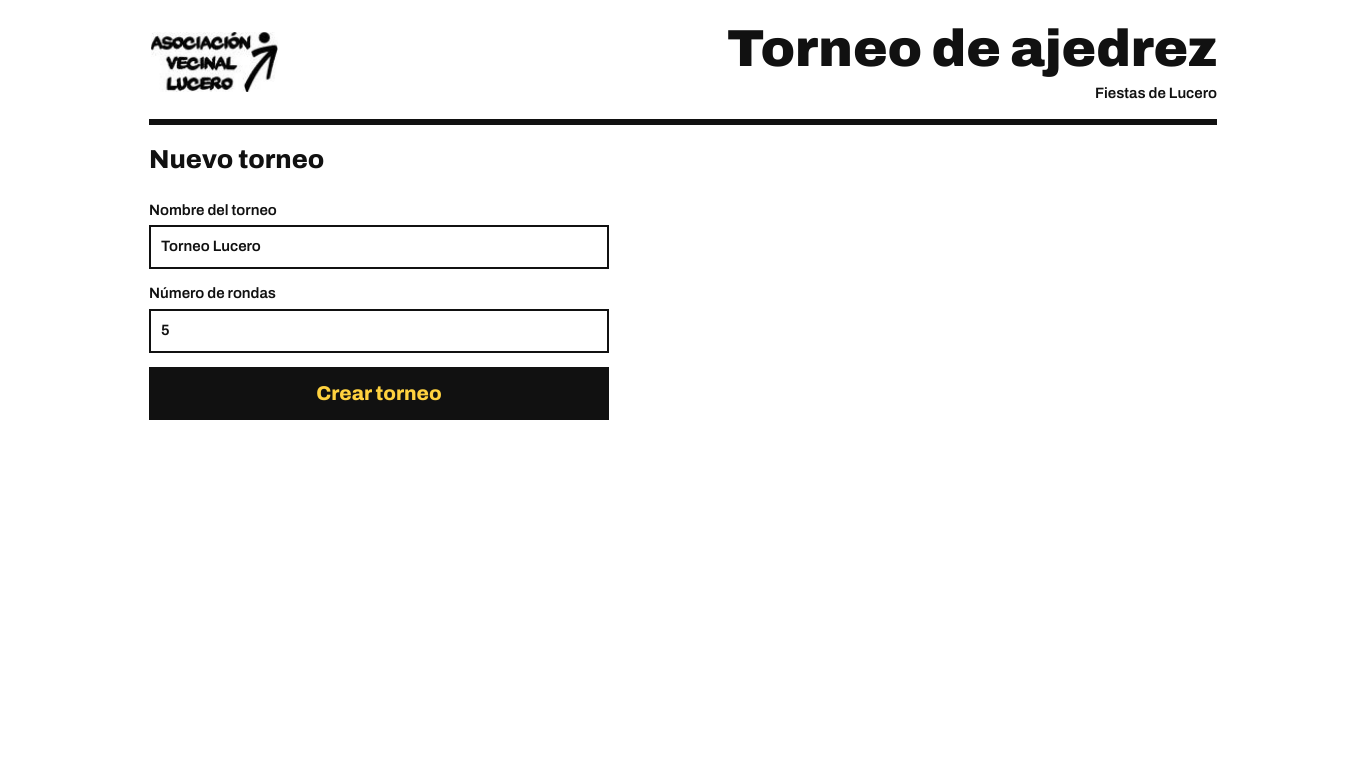
Test: inscripción › empezar con un jugador muestra un aviso
Replace the text in the field labelled "Nombre del torneo" with "Torneo de otoño" at coordinates (379, 247), box [149, 225, 609, 269]
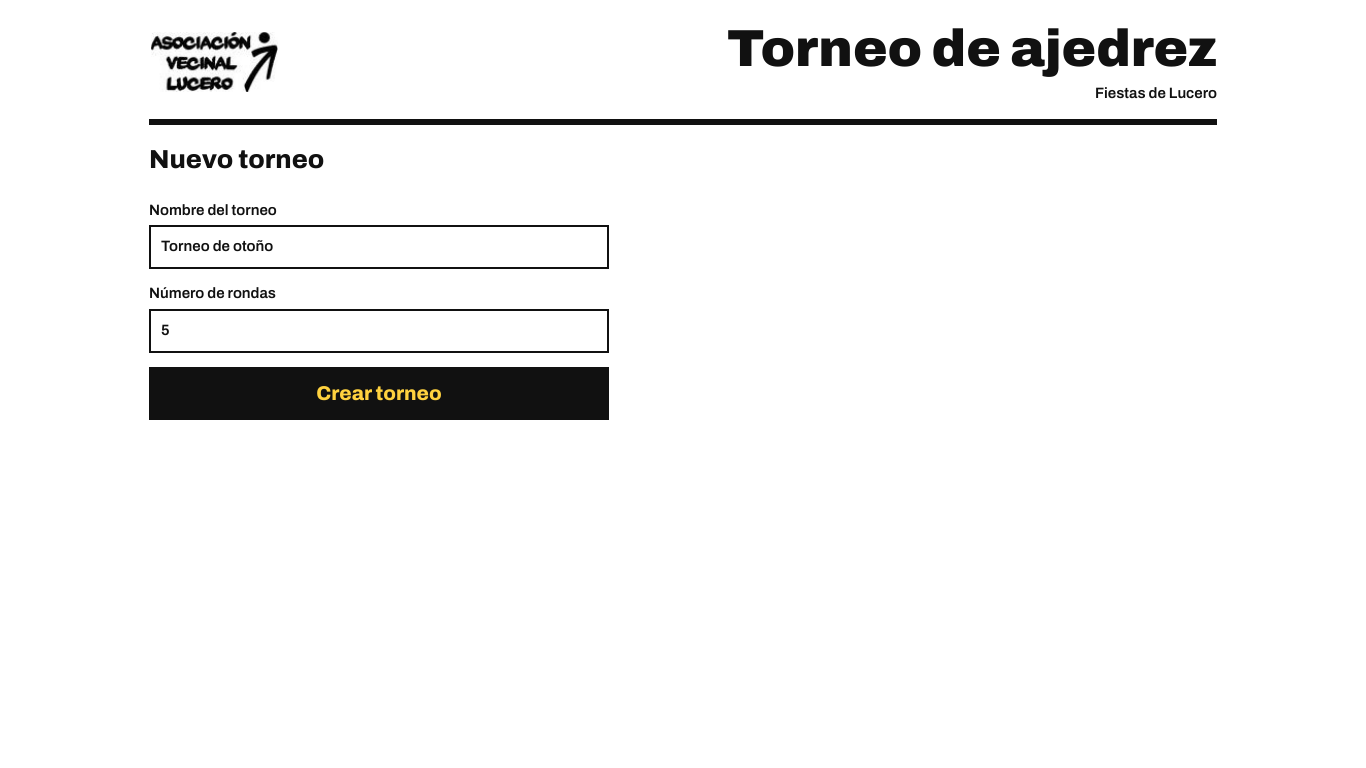
Replace the text in the number field labelled "Número de rondas" with "3" at coordinates (379, 331), box [149, 309, 609, 353]
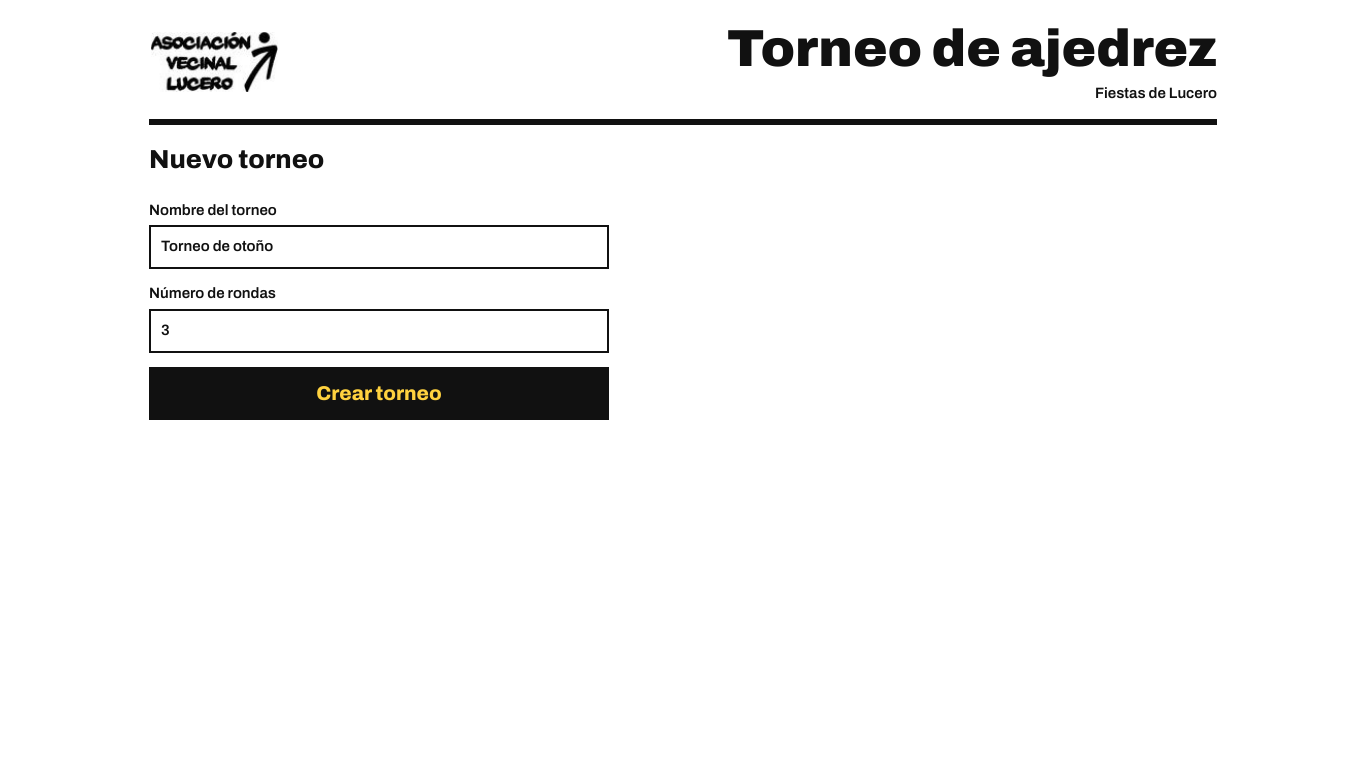
Click the button "Crear torneo".
click(379, 394)  # box [149, 367, 609, 420]
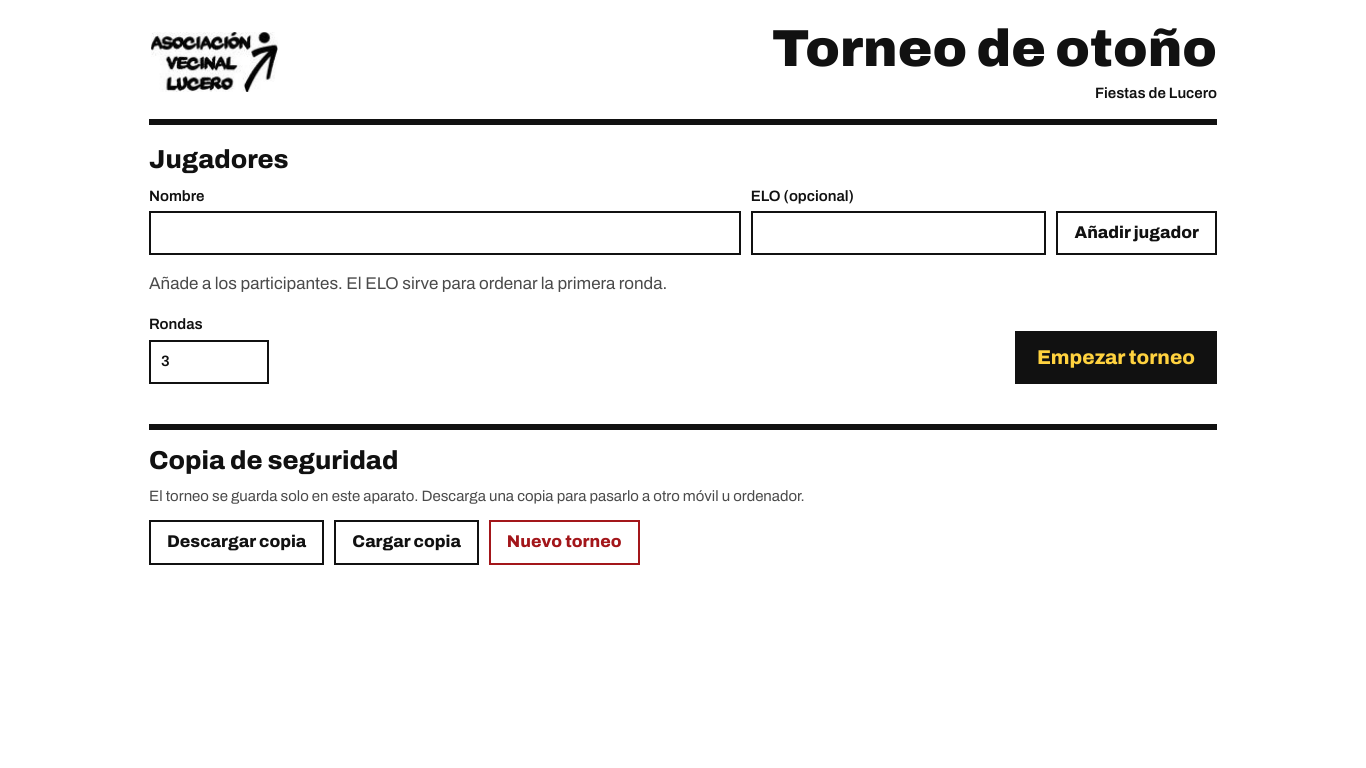
Type "Ana" into the field labelled "Nombre".
click(445, 233); type("Ana")  # box [149, 211, 741, 255]
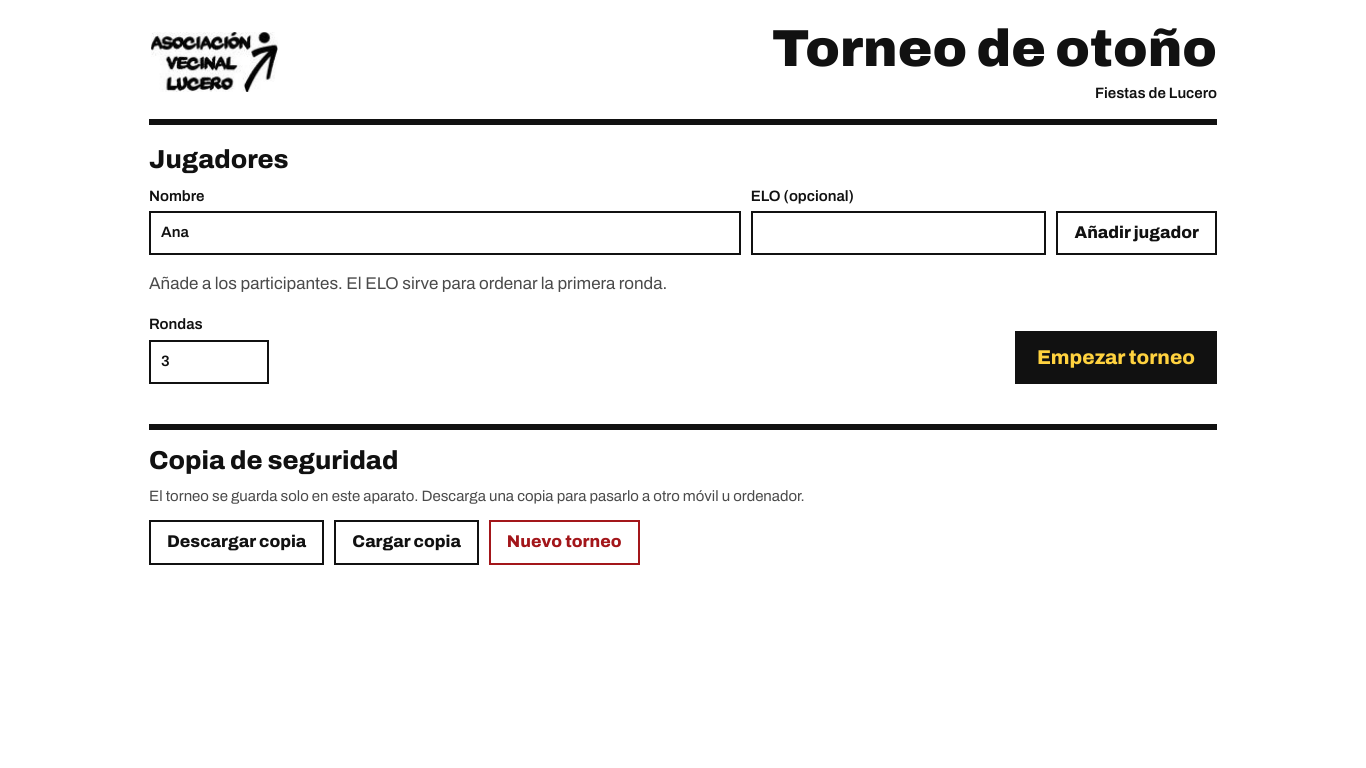
Click the button "Añadir jugador".
click(1137, 233)  # box [1056, 211, 1217, 255]
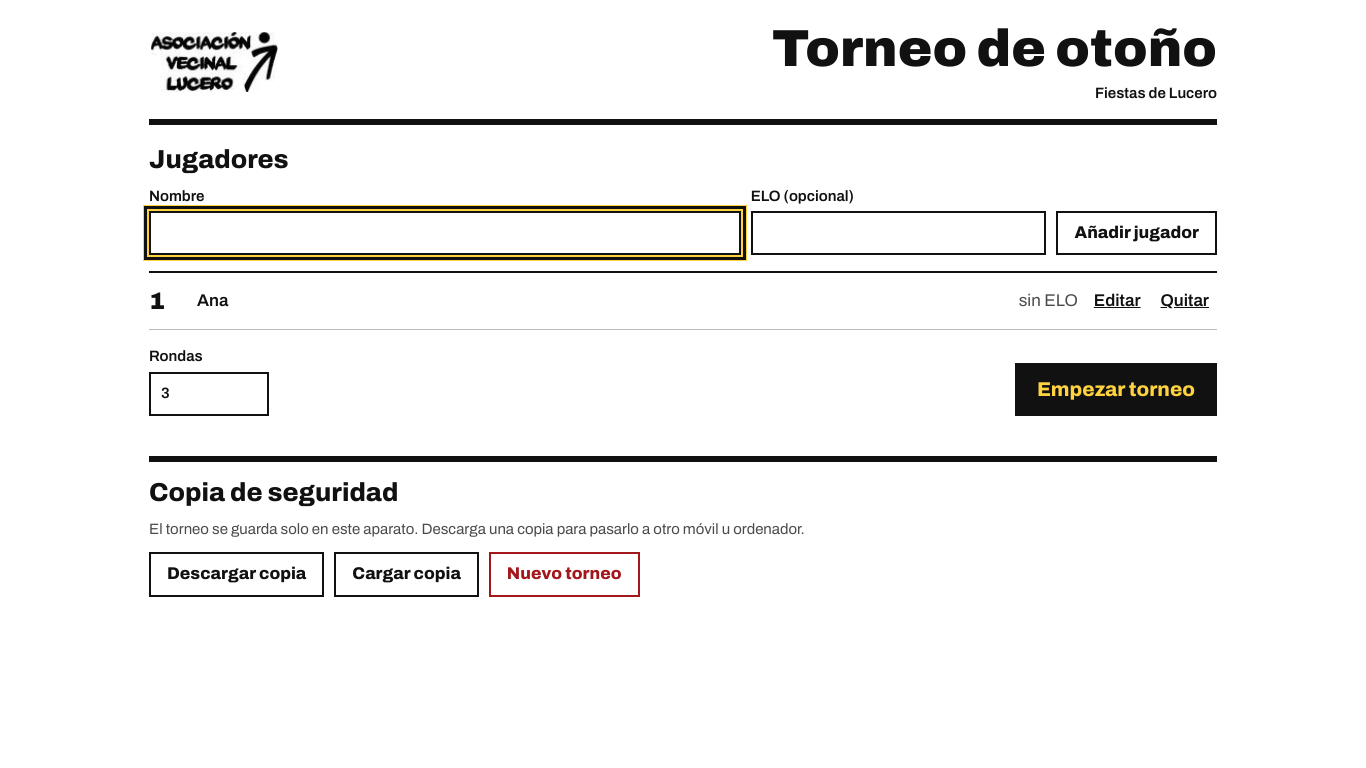
Click the button "Empezar torneo".
click(1116, 390)  # box [1015, 363, 1217, 416]
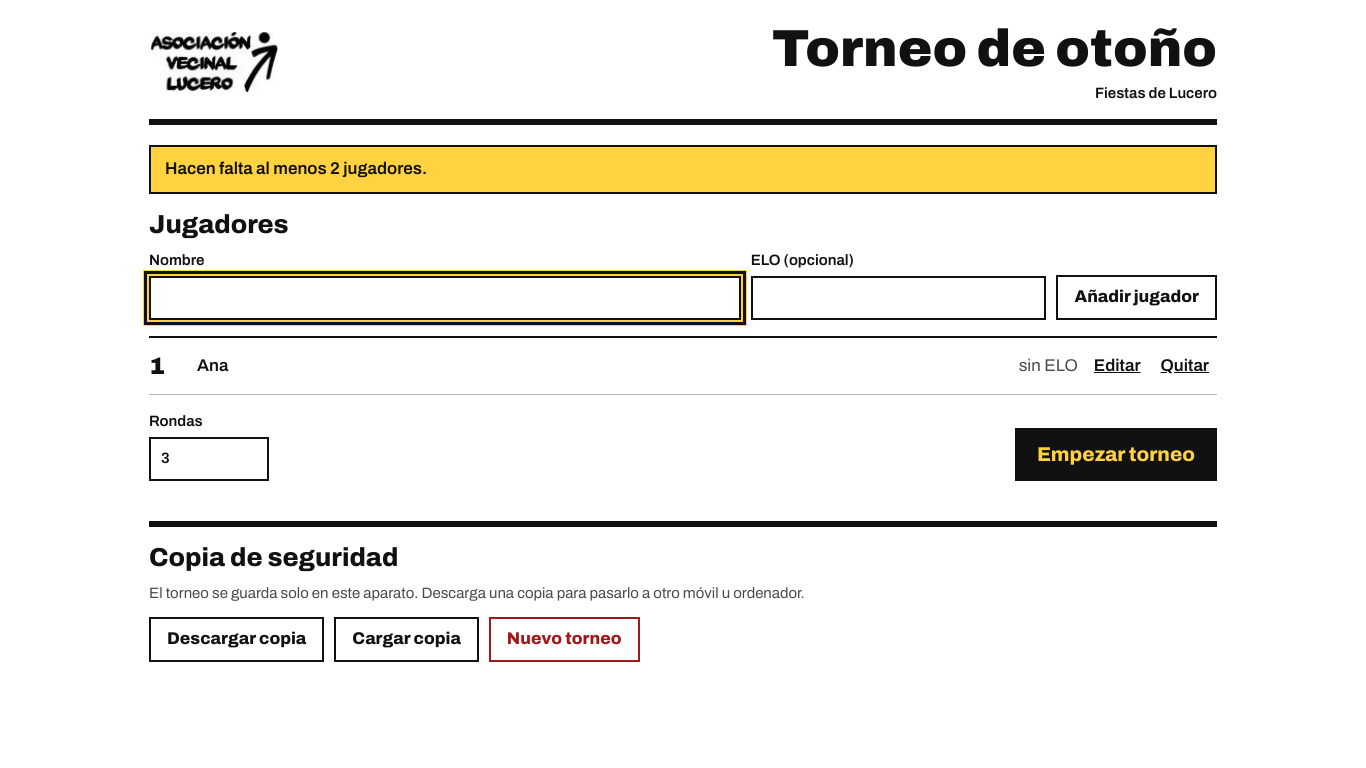
expect the message reads "Hacen falta al menos 2 jugadores.": met, box [165, 159, 427, 178]
